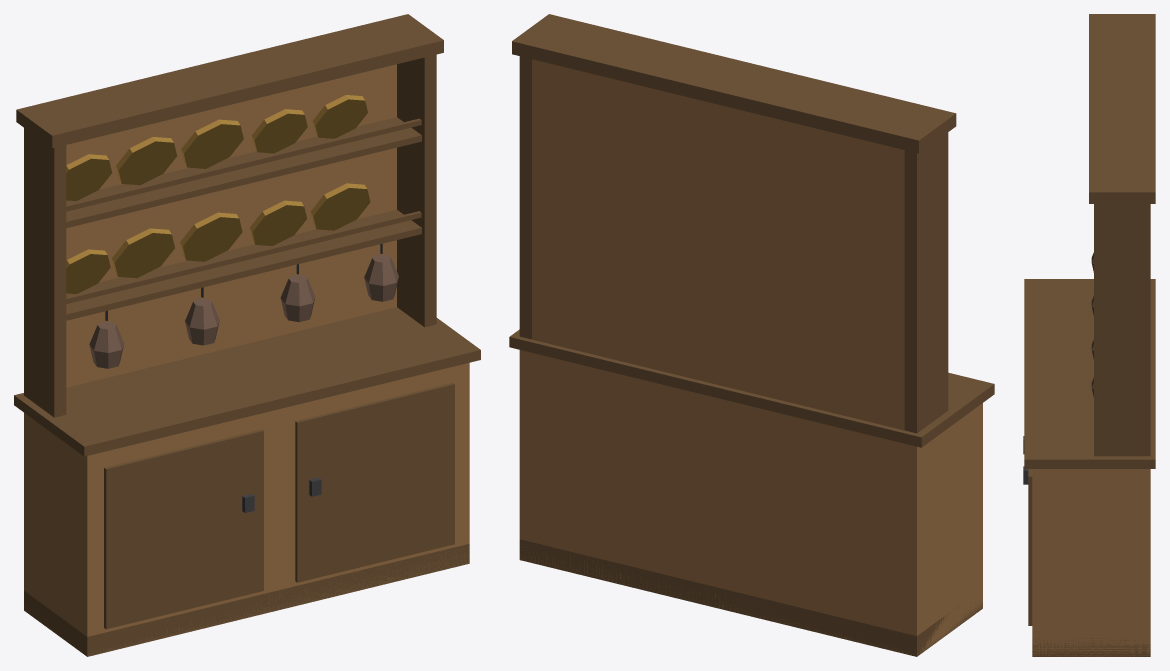
Rendered from Dresser.fbx.
The picture shows the model from 3 angles, left to right: view 1: azimuth 30°, elevation 25°; view 2: azimuth 150°, elevation 25°; view 3: azimuth 270°, elevation 25°; orthographic projection. The views are drawn at different scales.
Visible parts, largest first — view 1: Dresser; view 2: Dresser; view 3: Dresser.
Part boxes in pixels (x1,y1,x2,y2): Dresser: (14,14,480,656); Dresser: (509,14,994,656); Dresser: (1023,14,1155,656).
Size of the model in its own units: 1.66 by 2 by 0.515.
